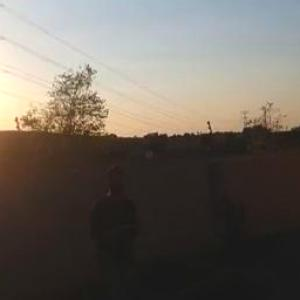follow: (86, 163, 150, 299)
